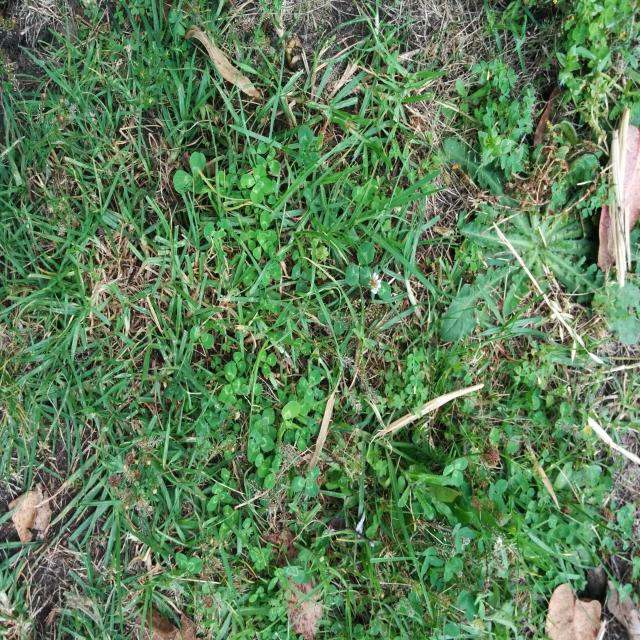Four Leaf Clover: (240, 165, 273, 204)
